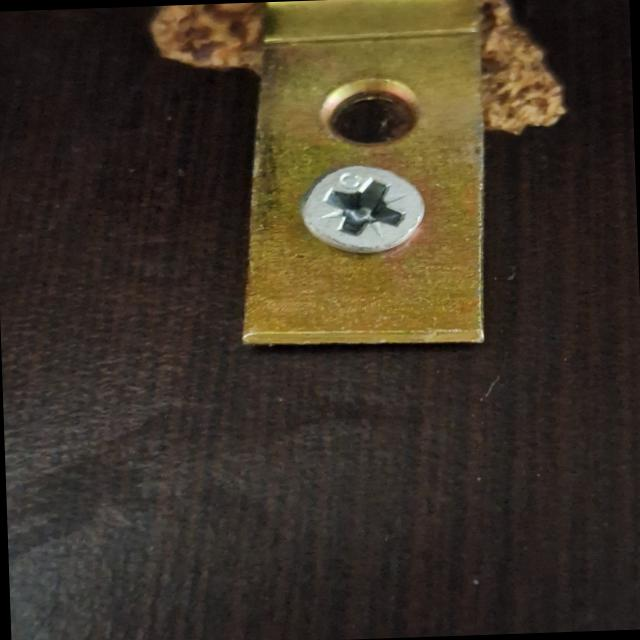Phillips: (304, 165, 440, 257)
